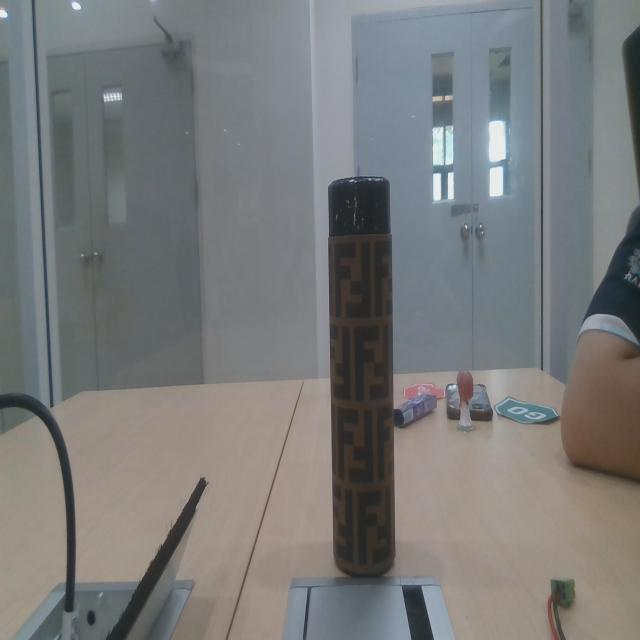Pole: (320, 169, 402, 592)
